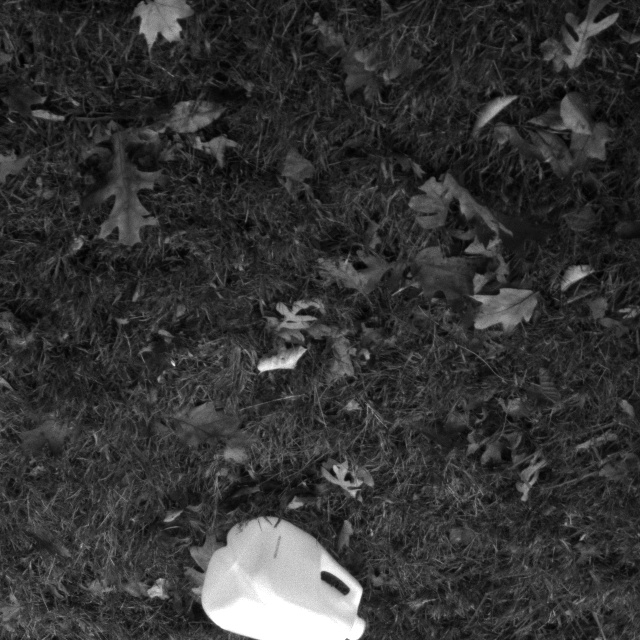can: (193, 509, 369, 640)
